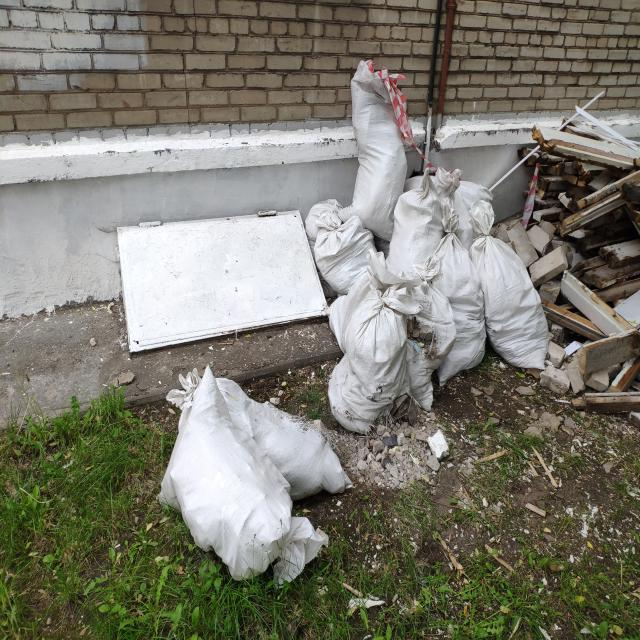entulho: (150, 368, 346, 582), (507, 160, 639, 353), (330, 293, 414, 433), (347, 64, 416, 227), (476, 236, 556, 372), (424, 233, 488, 386), (384, 175, 455, 293), (536, 104, 636, 174), (313, 217, 383, 298), (445, 172, 499, 242), (571, 379, 640, 416)
